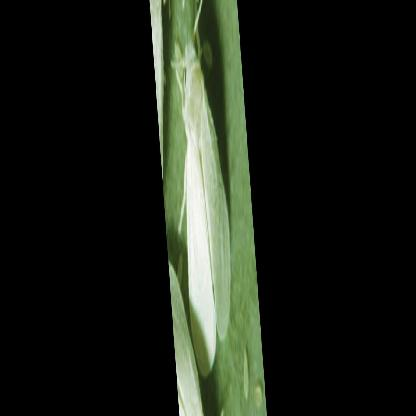whitefly: (181, 28, 230, 378)
